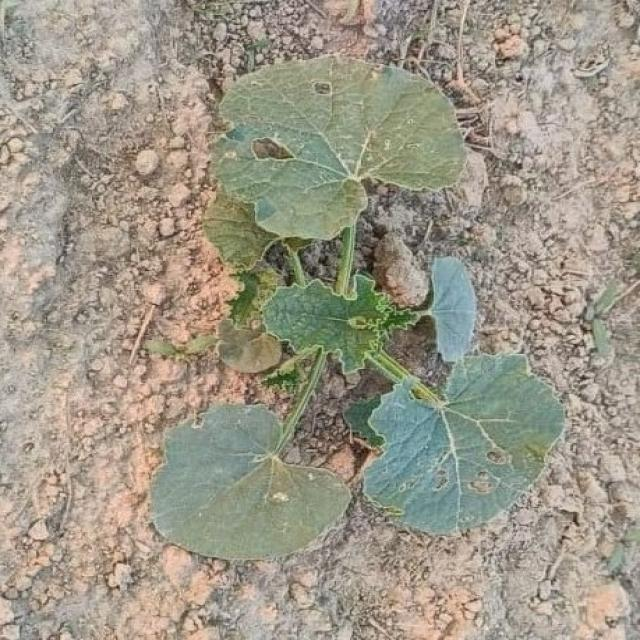plant: (151, 56, 565, 558)
